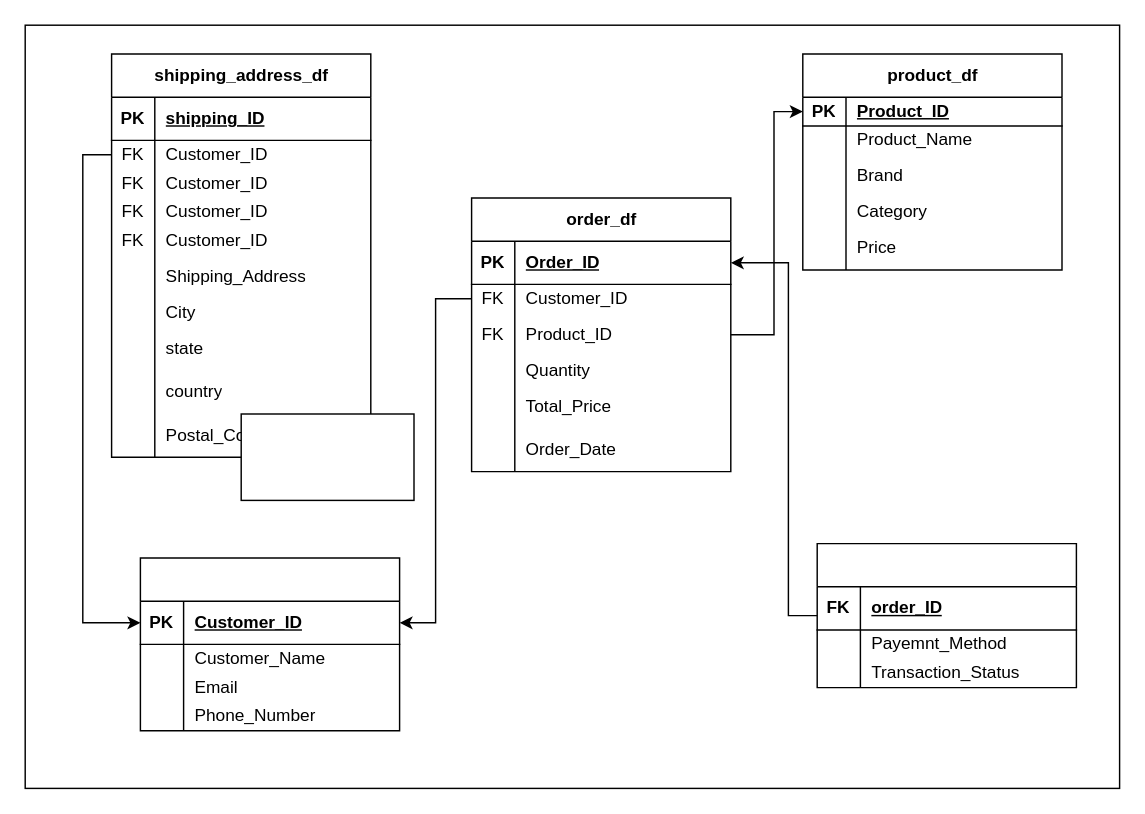
Image size: 1145x814. Some labels were removed from this diagram. The box of each missing label's shape, as (x1, y1, x2, y2) in pixels:
customer_df: (139, 557, 400, 731)
payment_method_df: (816, 542, 1076, 688)
